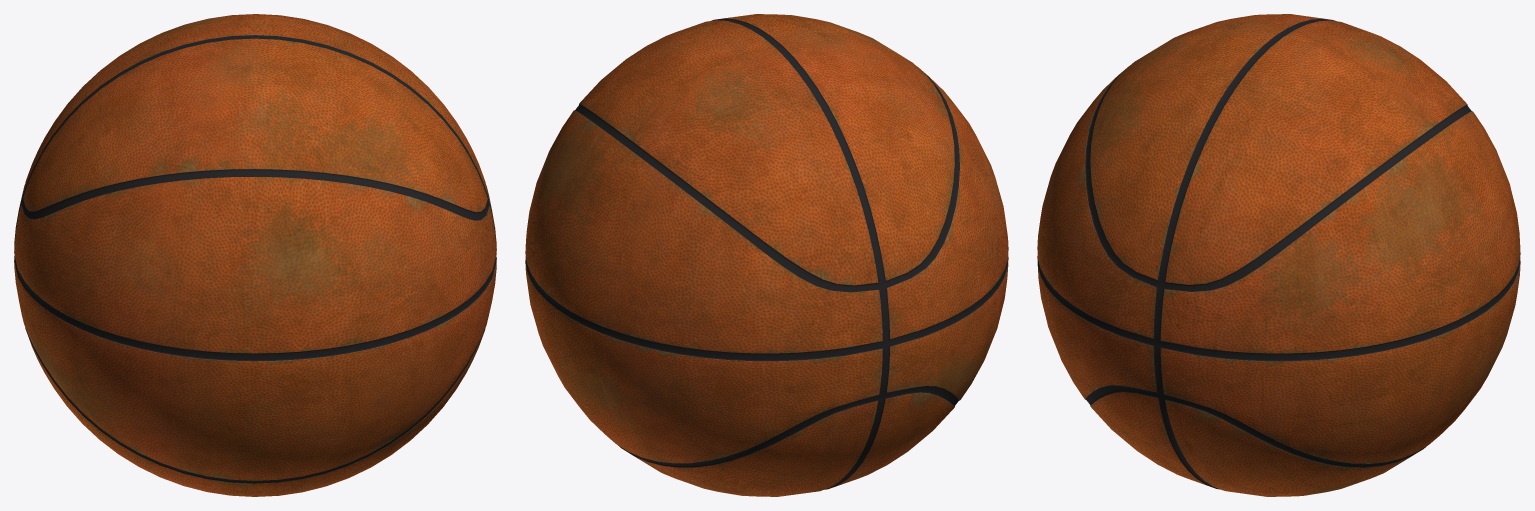
The model's file is Basketball-2.glb.
The picture shows the model from 3 angles, left to right: view 1: azimuth 30°, elevation 25°; view 2: azimuth 150°, elevation 25°; view 3: azimuth 270°, elevation 25°; orthographic projection.
Parts seen in each view (by area): view 1: basket-ball; view 2: basket-ball; view 3: basket-ball.
Part boxes in pixels (left/top/right/bottom): basket-ball: left=14, top=14, right=496, bottom=496; basket-ball: left=525, top=14, right=1008, bottom=496; basket-ball: left=1037, top=14, right=1520, bottom=496.
Size of the model in its own units: 2.09 by 2.09 by 2.09.
Materials: 1 (1 with a texture image).
